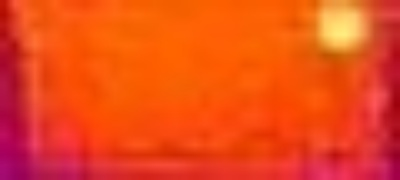Hotspot: (311, 2, 378, 54)
